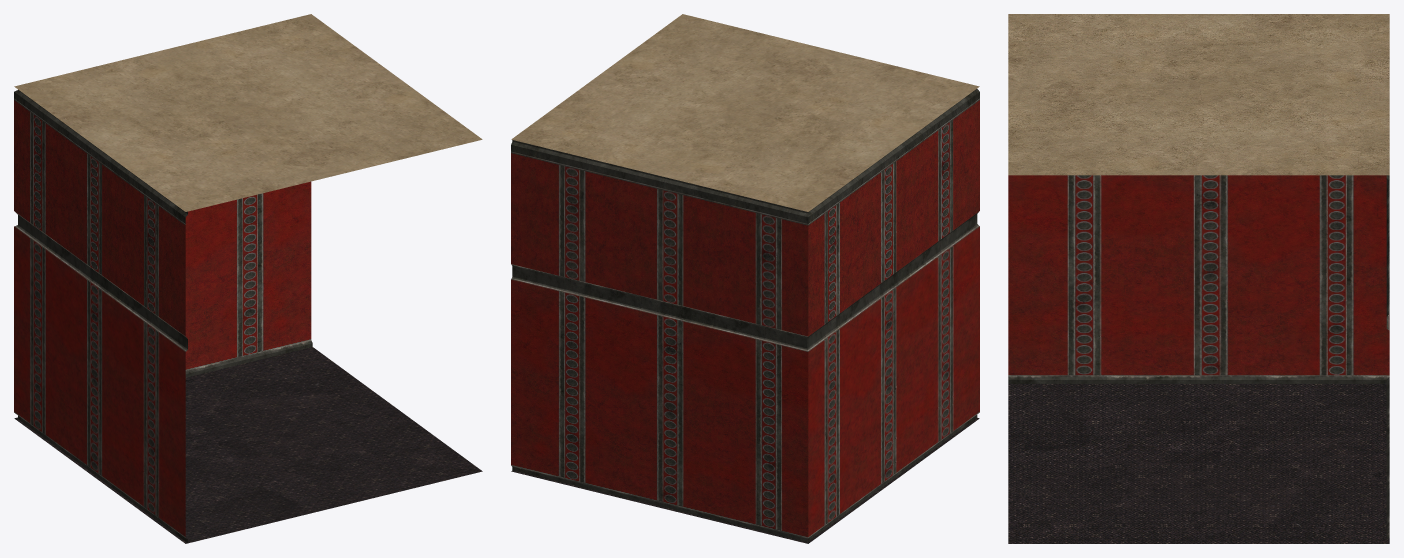
Rendered from pared_esquina.obj.
The picture shows the model from 3 angles, left to right: view 1: azimuth 30°, elevation 25°; view 2: azimuth 150°, elevation 25°; view 3: azimuth 270°, elevation 25°; orthographic projection. The views are drawn at different scales.
Parts seen in each view (by area): view 1: pared_esquina; view 2: pared_esquina; view 3: pared_esquina.
Part boxes in pixels (left/top/right/bottom): pared_esquina: left=14, top=14, right=482, bottom=543; pared_esquina: left=511, top=14, right=979, bottom=543; pared_esquina: left=1008, top=14, right=1389, bottom=543.
Bounding box in the file's own units: 240 × 256 × 240.
3 materials, 3 textured.
